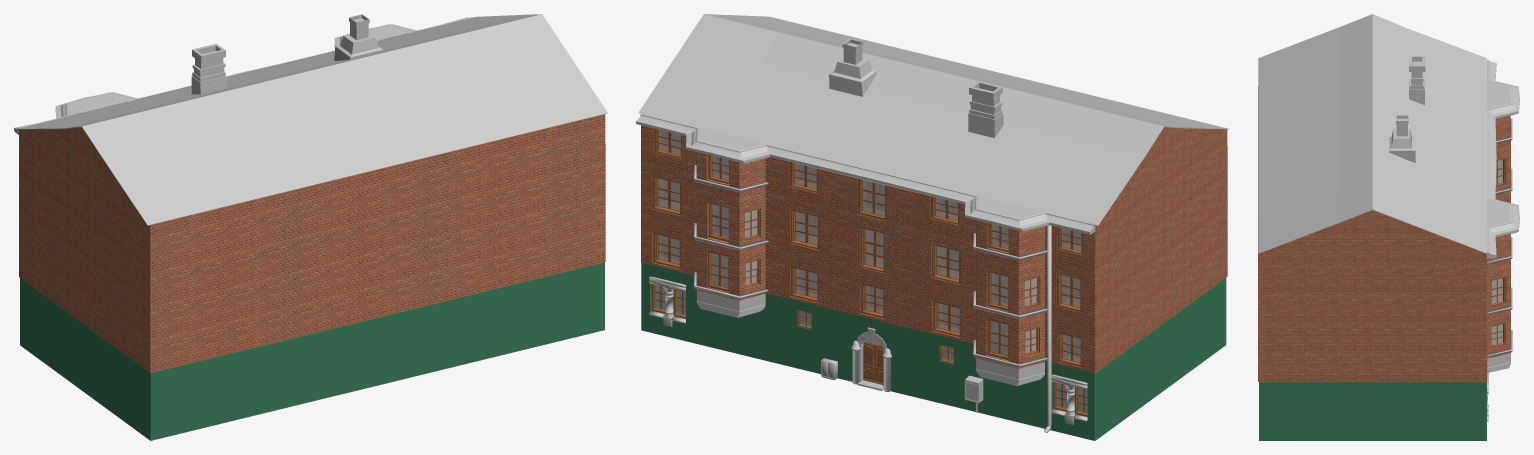
Rendered from Apartment5_Low.fbx.
3 renders of one model, left to right at view 1: azimuth 30°, elevation 25°; view 2: azimuth 150°, elevation 25°; view 3: azimuth 270°, elevation 25°, orthographic. The views are drawn at different scales.
Parts seen in each view (by area): view 1: Apartment5, FullHouse.153, Apartment5.003, Apartment5.007, Apartment5.005, Apartment5.008, Apartment5.004, Apartment5.006, Apartment5.009, 5th_L_C.014; view 2: Apartment5, FullHouse.153, Apartment5.003, Apartment5.007, Apartment5.005, 5th_L_C.014, Apartment5.008, Apartment5.009, Apartment5.004, Apartment5.011, Apartment5.006, Apartment5.012 (+24 smaller); view 3: FullHouse.153, Apartment5, Apartment5.009, 5th_L_C.014, Apartment5.012, FullHouse.339, Apartment5.011, FullHouse.340, FullHouse.309.
Part boxes in pixels (bbox=[...]): Apartment5: bbox=[19, 33, 605, 373]; FullHouse.153: bbox=[14, 14, 607, 225]; Apartment5.003: bbox=[20, 278, 201, 440]; Apartment5.007: bbox=[405, 293, 479, 378]; Apartment5.005: bbox=[269, 326, 342, 411]; Apartment5.008: bbox=[480, 276, 549, 360]; Apartment5.004: bbox=[201, 344, 269, 428]; Apartment5.006: bbox=[343, 311, 405, 393]; Apartment5.009: bbox=[549, 262, 604, 343]; 5th_L_C.014: bbox=[191, 14, 382, 94]; Apartment5: bbox=[641, 113, 1227, 373]; FullHouse.153: bbox=[636, 14, 1229, 234]; Apartment5.003: bbox=[1045, 278, 1226, 440]; Apartment5.007: bbox=[765, 293, 839, 378]; Apartment5.005: bbox=[902, 326, 976, 411]; 5th_L_C.014: bbox=[829, 38, 1003, 137]; Apartment5.008: bbox=[697, 293, 765, 360]; Apartment5.009: bbox=[641, 263, 697, 343]; Apartment5.004: bbox=[976, 362, 1044, 428]; Apartment5.011: bbox=[696, 291, 1044, 385]; Apartment5.006: bbox=[839, 311, 901, 393]; Apartment5.012: bbox=[693, 164, 1047, 367]; FullHouse.153: bbox=[1258, 14, 1519, 258]; Apartment5: bbox=[1258, 86, 1510, 382]; Apartment5.009: bbox=[1259, 382, 1486, 440]; 5th_L_C.014: bbox=[1389, 55, 1425, 162]; Apartment5.012: bbox=[1487, 118, 1512, 357]; FullHouse.339: bbox=[1491, 276, 1505, 306]; Apartment5.011: bbox=[1487, 235, 1510, 372]; FullHouse.340: bbox=[1491, 322, 1505, 348]; FullHouse.309: bbox=[1496, 158, 1505, 186].
Bounding box in the file's own units: 28.35 × 17.16 × 16.06.
